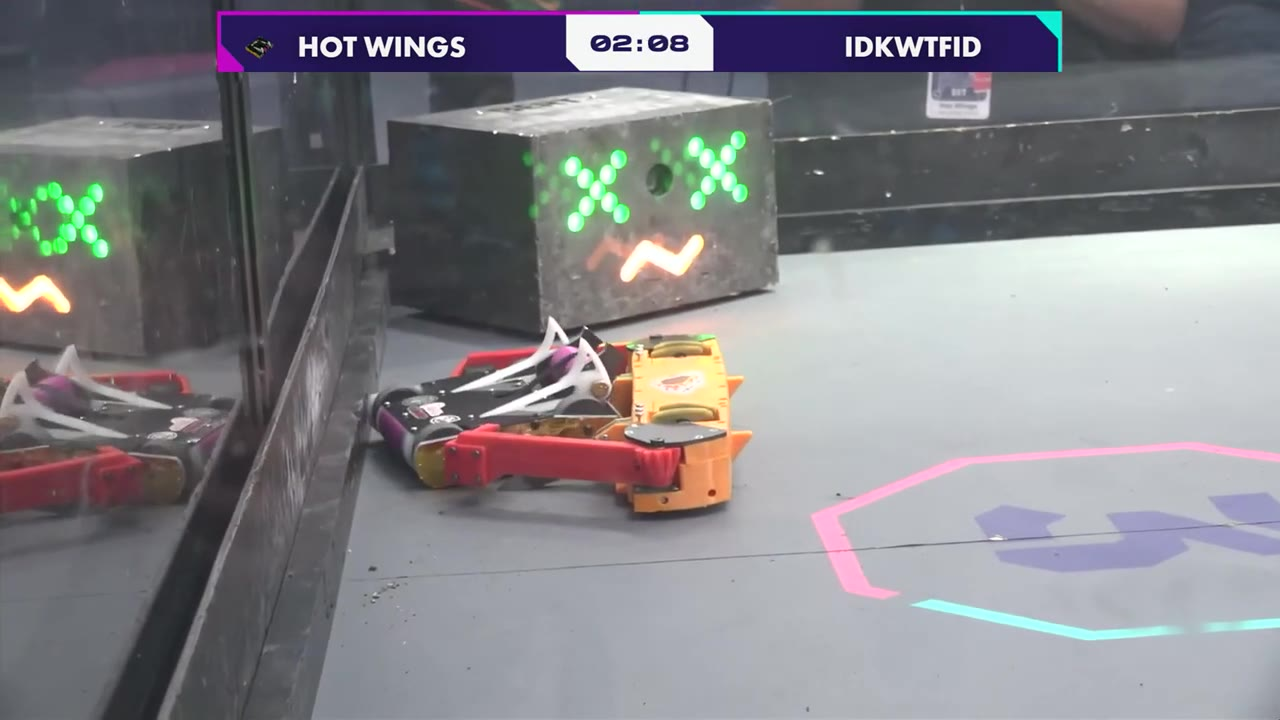combatbot: (448, 326, 754, 516), (362, 318, 632, 491)
housebot: (389, 86, 780, 337)
